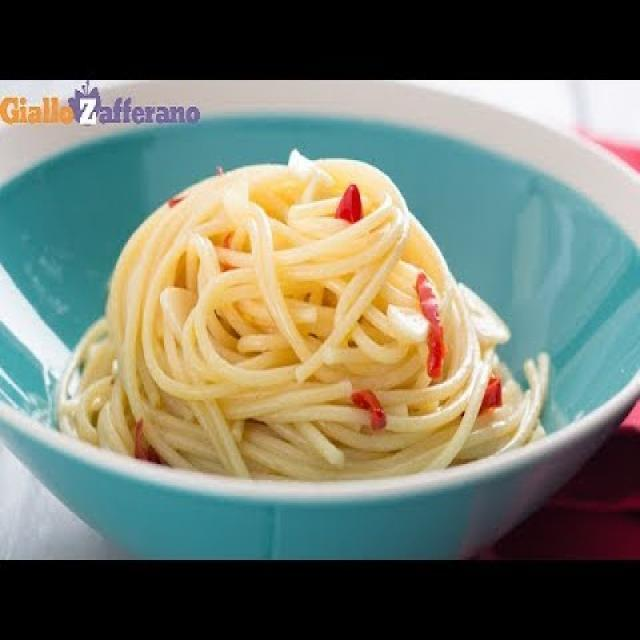Oil pasta: (80, 146, 566, 526)
